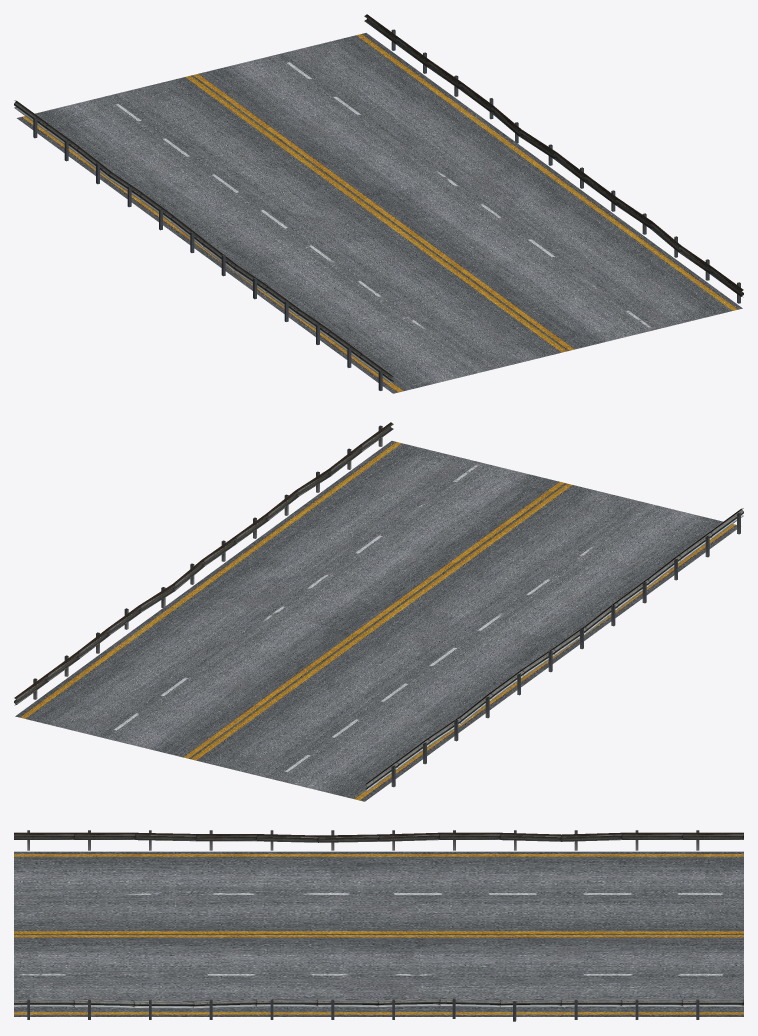
File: road_plain.fbx
3 renders of one model, top to bottom at view 1: azimuth 30°, elevation 25°; view 2: azimuth 150°, elevation 25°; view 3: azimuth 270°, elevation 25°, orthographic. The views are drawn at different scales.
Parts seen in each view (by area): view 1: road, guardrail1, guardrail2; view 2: road, guardrail1, guardrail2; view 3: road, guardrail2, guardrail1.
Part boxes in pixels (box(x1,y1,x2,y2)): road: box(17, 33, 742, 393); guardrail1: box(14, 100, 393, 390); guardrail2: box(364, 14, 743, 303); road: box(15, 441, 736, 801); guardrail1: box(364, 508, 743, 791); guardrail2: box(14, 422, 393, 705); road: box(14, 851, 743, 1016); guardrail2: box(14, 998, 743, 1021); guardrail1: box(14, 830, 743, 850).
Bounding box in the file's own units: 208 × 10.86 × 373.
Materials: 2 (2 with a texture image).
